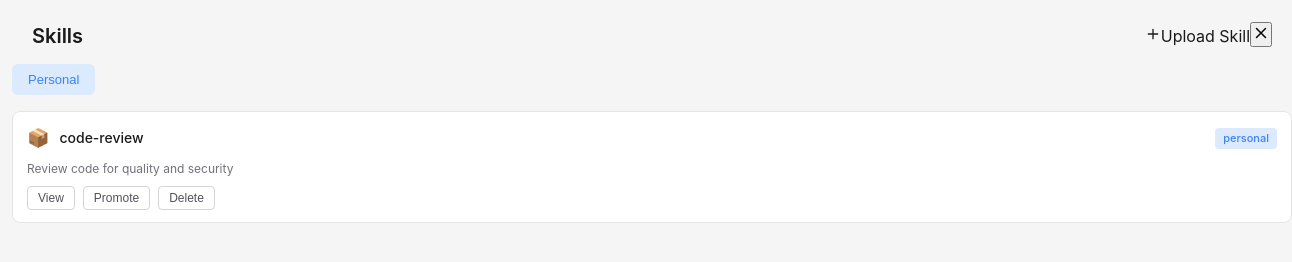
SkillsPanel - View skill › opens skill detail view when View button is clicked
Expected: the text "code-review" is shown, [60,129,144,146]
# Click View button
Click the button "View" at (51, 198), box [27,186,75,210]
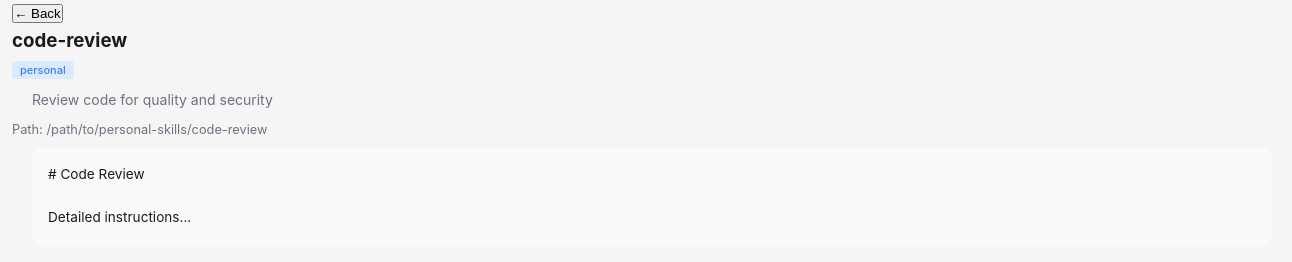
Expected: the text "Review code for quality and security" is shown, [32,91,273,108]
Now the text "# Code Review Detailed instructions..." is shown, box [32,148,1272,245]
Now the button "← Back" is shown, box [12,4,63,23]
